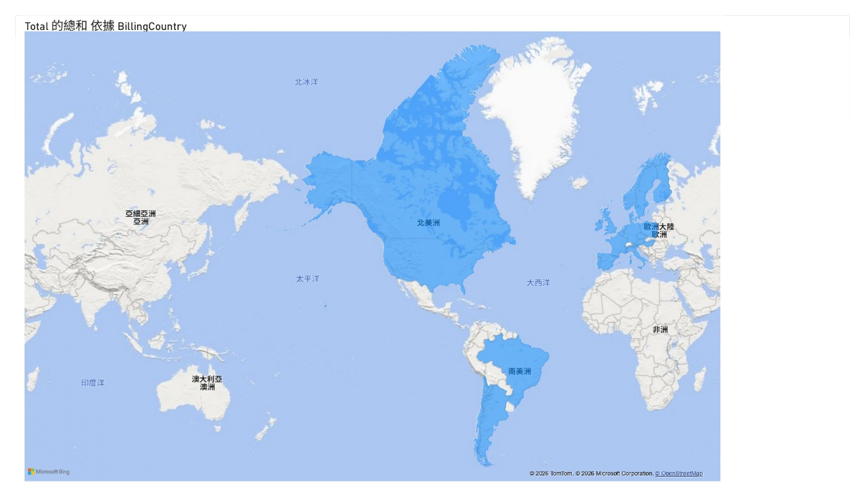

This screenshot's page, from the dashboard's own definition file:
{"tool":"powerbi","page":{"name":"第 3 頁","canvas":[1280,720],"ordinal":2},"visuals":[{"type":"filledMap","fields":{"Category":["Invoice.BillingCountry"]},"box":[9,0,1078,720],"z":0}]}

Visuals, with their boxes in screenshot pixels (x1, y1, x2, y2), scaled from the page's 1280x720 canvas onto the 865x500 screenshot:
filledMap - Invoice.BillingCountry: (x1=6, y1=0, x2=735, y2=499)
